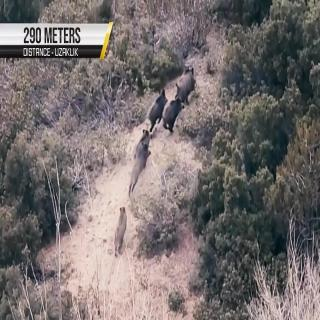Pig: (110, 194, 136, 271)
